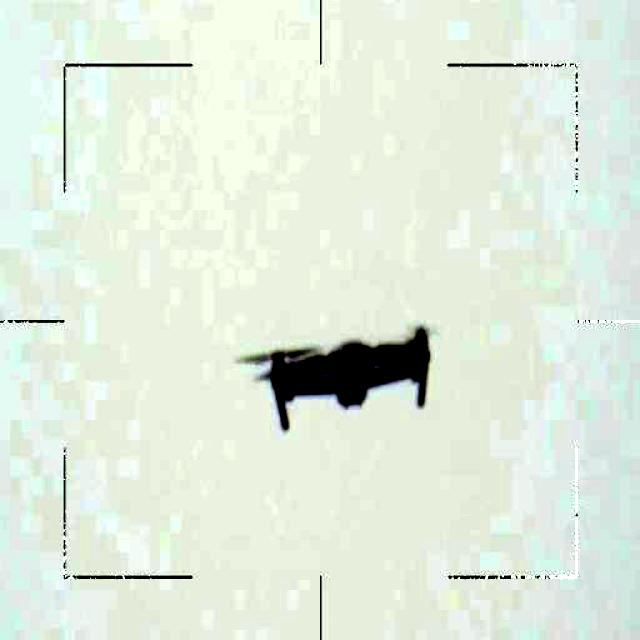bird: (226, 318, 465, 438)
